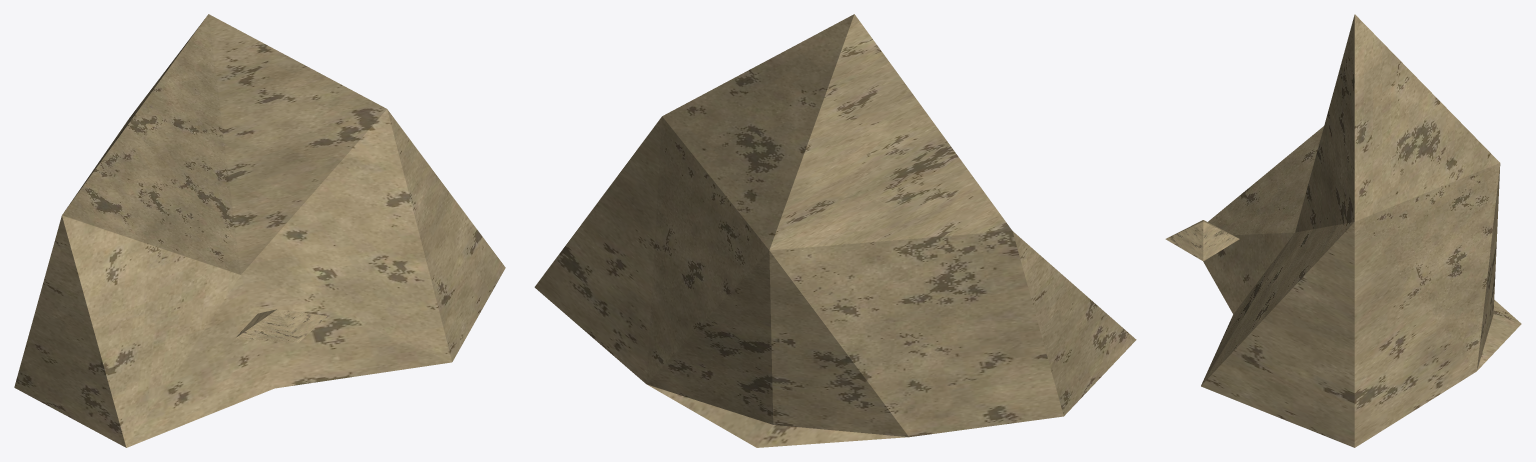
File: ae_battle_rock_small_lod1.glb
3 views of the same model, side by side, from view 1: azimuth 30°, elevation 25°; view 2: azimuth 150°, elevation 25°; view 3: azimuth 270°, elevation 25° (orthographic). The views are drawn at different scales.
Parts seen in each view (by area): view 1: ae_battle_rock_small_lod1; view 2: ae_battle_rock_small_lod1; view 3: ae_battle_rock_small_lod1.
Boxes of the visible parts, <box> form: ae_battle_rock_small_lod1: <box>14,14,505,447</box>; ae_battle_rock_small_lod1: <box>534,14,1136,447</box>; ae_battle_rock_small_lod1: <box>1165,14,1521,447</box>.
Bounding box in the file's own units: 3.63 × 2.37 × 2.48.
Materials: 1 (1 with a texture image).
